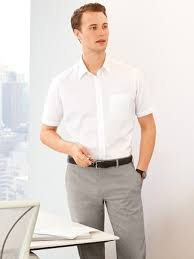F_belt: (63, 153, 139, 174)
F_shirt: (33, 51, 166, 165)
